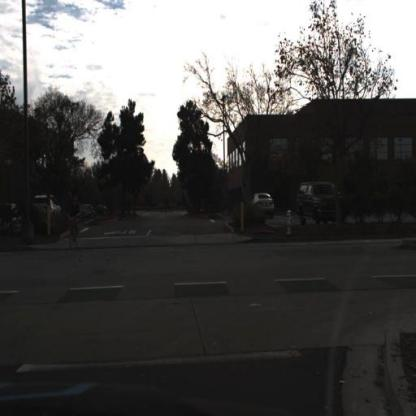biker: (65, 195, 84, 254)
car: (293, 185, 346, 234), (29, 191, 60, 220), (253, 192, 275, 219), (82, 201, 96, 226)
